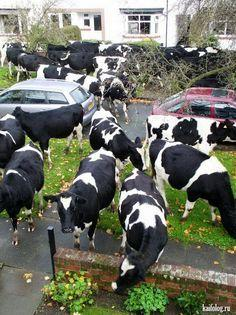cow: (47, 140, 124, 251)
